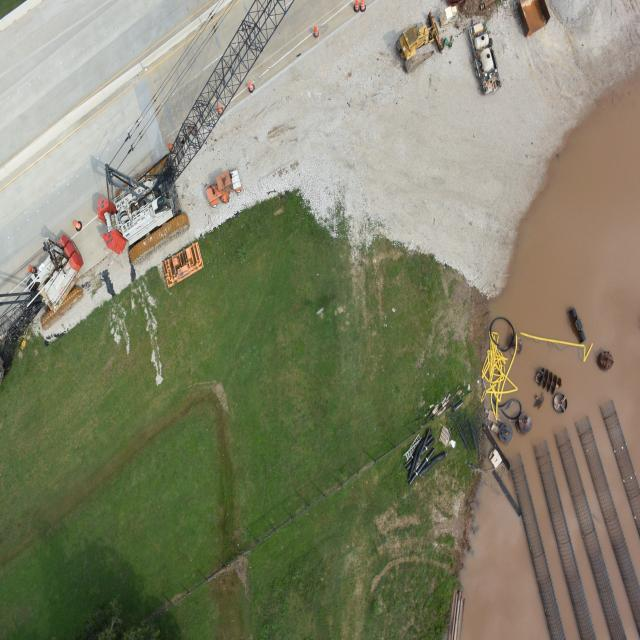fire: (489, 69, 640, 640), (461, 476, 550, 640)
